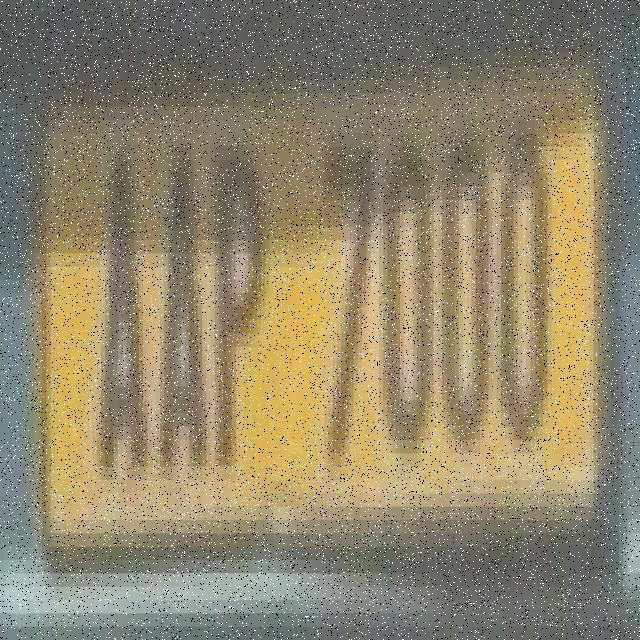LicensePlate: (37, 43, 613, 574)
